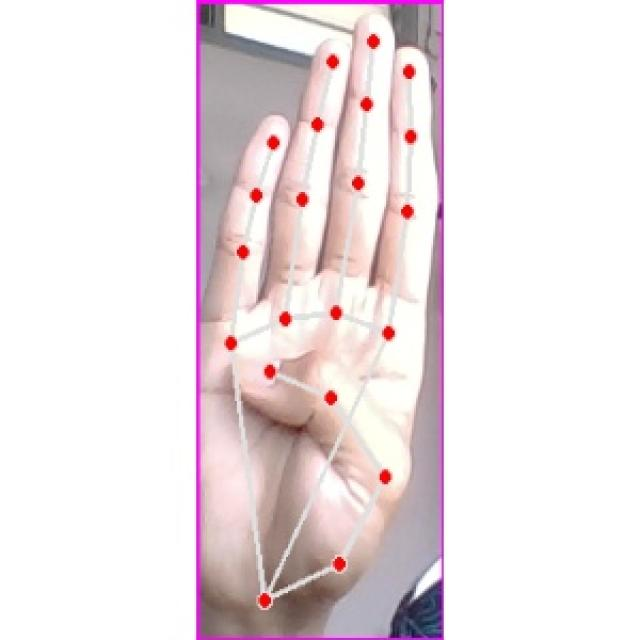B: (206, 18, 437, 610)
